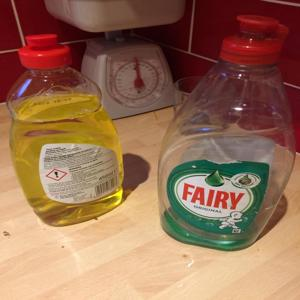plastic: (160, 16, 297, 258), (3, 17, 133, 237)
